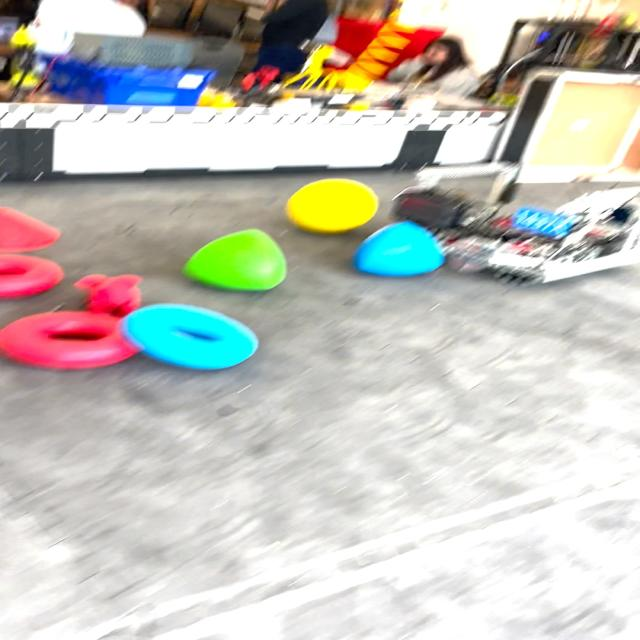Blue-Ring: (122, 304, 258, 369)
Red-Ring: (0, 311, 138, 369), (0, 254, 64, 297)
